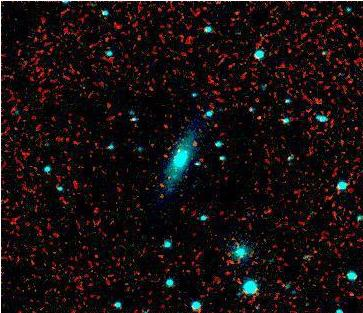star: (303, 85, 333, 115)
